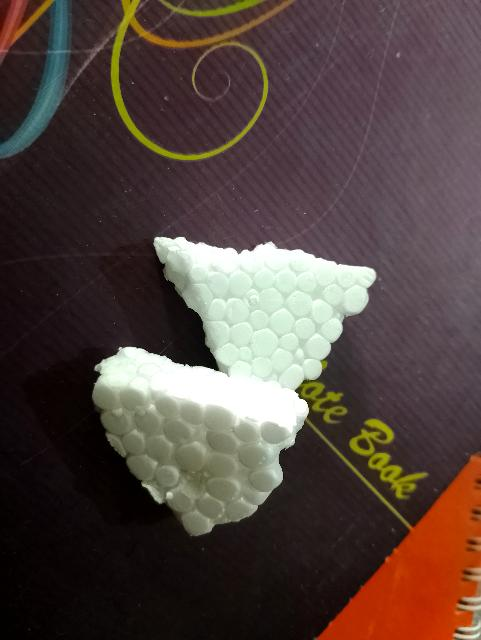cocksheet: (159, 218, 373, 407), (97, 331, 288, 532)
